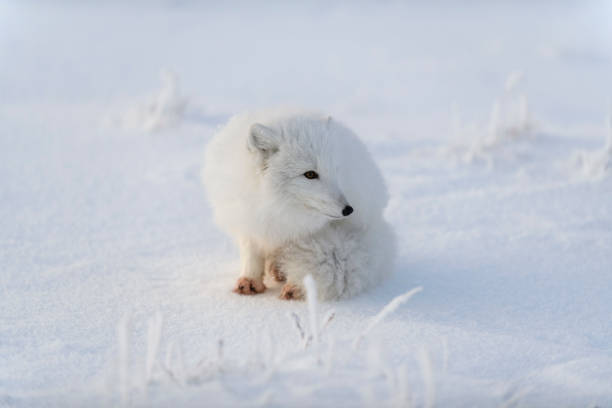arcticfox: (272, 123, 358, 225)
